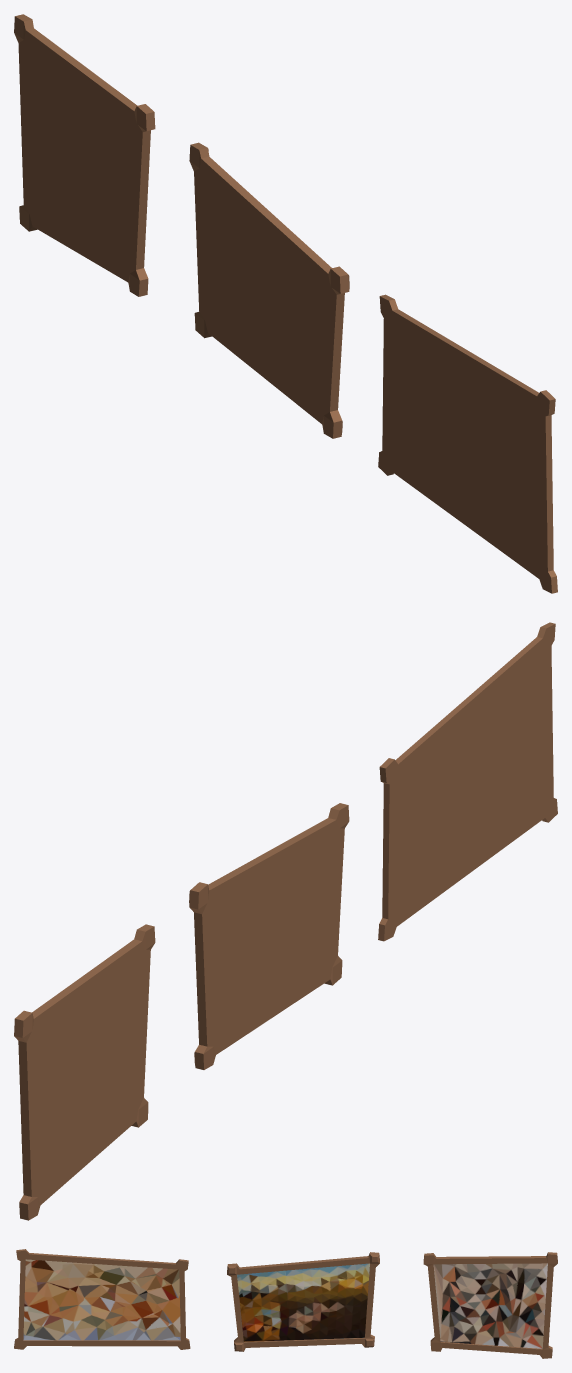
The model's file is Marcos11.fbx.
3 views of the same model, one above another, from view 1: azimuth 30°, elevation 25°; view 2: azimuth 150°, elevation 25°; view 3: azimuth 270°, elevation 25° (orthographic). The views are drawn at different scales.
Visible parts, largest first — view 1: Cube.003, Cube.005, Cube.001; view 2: Cube.003, Cube.005, Cube.001; view 3: Cube.003, Cube.005, Cube.001.
Part boxes in pixels (<box>): Cube.003: <box>378,294,557,593</box>; Cube.005: <box>189,142,349,438</box>; Cube.001: <box>14,14,155,296</box>; Cube.003: <box>378,622,557,941</box>; Cube.005: <box>189,803,349,1069</box>; Cube.001: <box>14,924,155,1220</box>; Cube.003: <box>14,1249,190,1349</box>; Cube.005: <box>227,1252,379,1351</box>; Cube.001: <box>423,1252,557,1358</box>.
Bounding box in the file's own units: 5.79 × 102 × 467.
